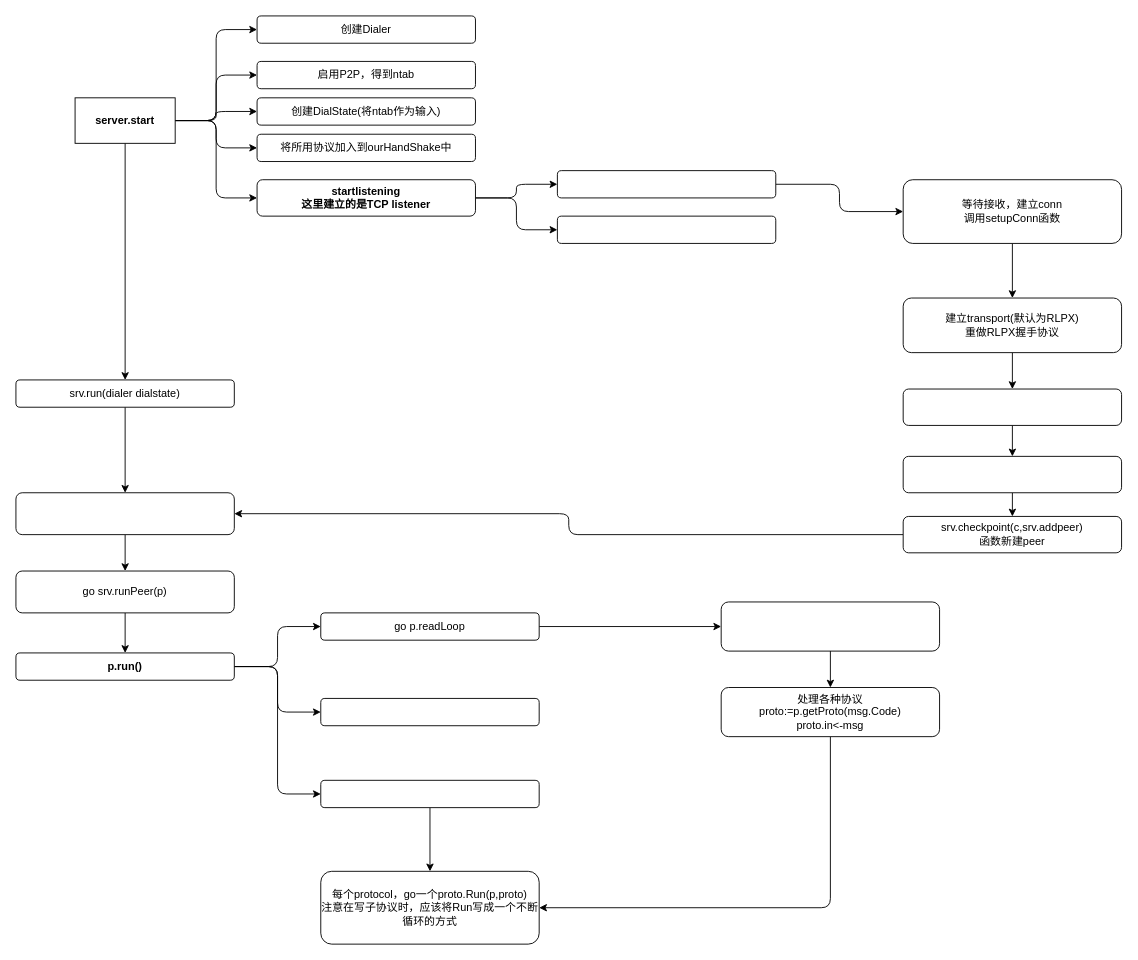
The diagram is 1138 pixels wide and 960 high, and some of its shapes have lost their labels. Here are the shapes that lost their labels. From the top down, the centre of each, then its label:
At pixel 666 184: "listenloop".
At pixel 666 229: "NAT".
At pixel 1012 406: "c.doProtoHandshake 所有协议依次握手".
At pixel 1012 474: "拿到远端peer支持的协议".
At pixel 124 513: "c:=<-srv.addpeer等待新建peer p:=newPeer(c,srv.Protocols)".
At pixel 830 626: "read msg 调用p.handle(msg)".
At pixel 429 712: "go p.pingLoop".
At pixel 429 793: "p.StartProtocols".
